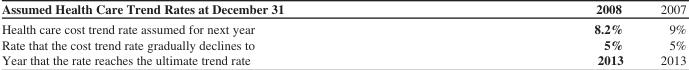table: (0, 0, 685, 67)
table column: (0, 0, 438, 67), (438, 0, 641, 67), (641, 0, 685, 67)
table column header: (0, 0, 685, 18)
table row: (0, 0, 685, 18), (0, 18, 685, 36), (0, 51, 685, 67), (0, 36, 685, 51)
